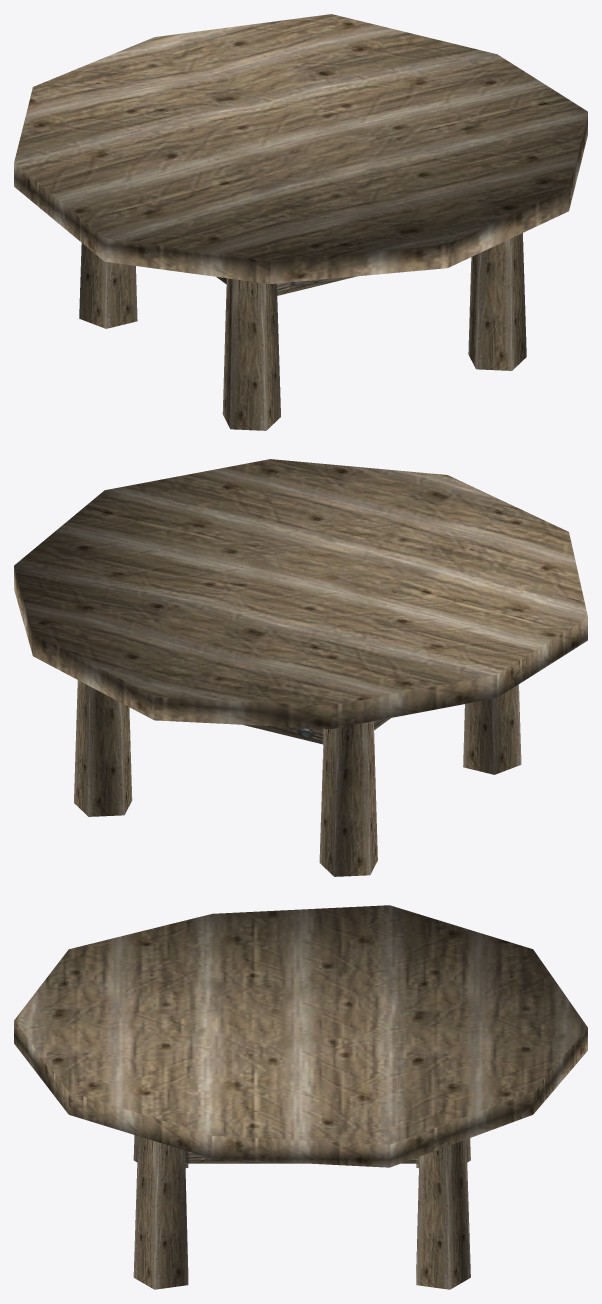
Rendered from westfalltable.obj.
3 views of the same model, one above another, from view 1: azimuth 30°, elevation 25°; view 2: azimuth 150°, elevation 25°; view 3: azimuth 270°, elevation 25° (orthographic). The views are drawn at different scales.
Visible parts, largest first — view 1: WESTFALLTABLE0, WESTFALLTABLE1; view 2: WESTFALLTABLE0, WESTFALLTABLE1; view 3: WESTFALLTABLE0, WESTFALLTABLE1.
Part boxes in pixels (left/top/right/bottom): WESTFALLTABLE0: left=14, top=14, right=587, bottom=430; WESTFALLTABLE1: left=216, top=276, right=356, bottom=295; WESTFALLTABLE0: left=14, top=459, right=587, bottom=876; WESTFALLTABLE1: left=242, top=718, right=390, bottom=744; WESTFALLTABLE0: left=14, top=905, right=587, bottom=1289; WESTFALLTABLE1: left=185, top=1150, right=419, bottom=1163.
Bounding box in the file's own units: 2.7 × 1.07 × 2.83.
Materials: 2 (2 with a texture image).
